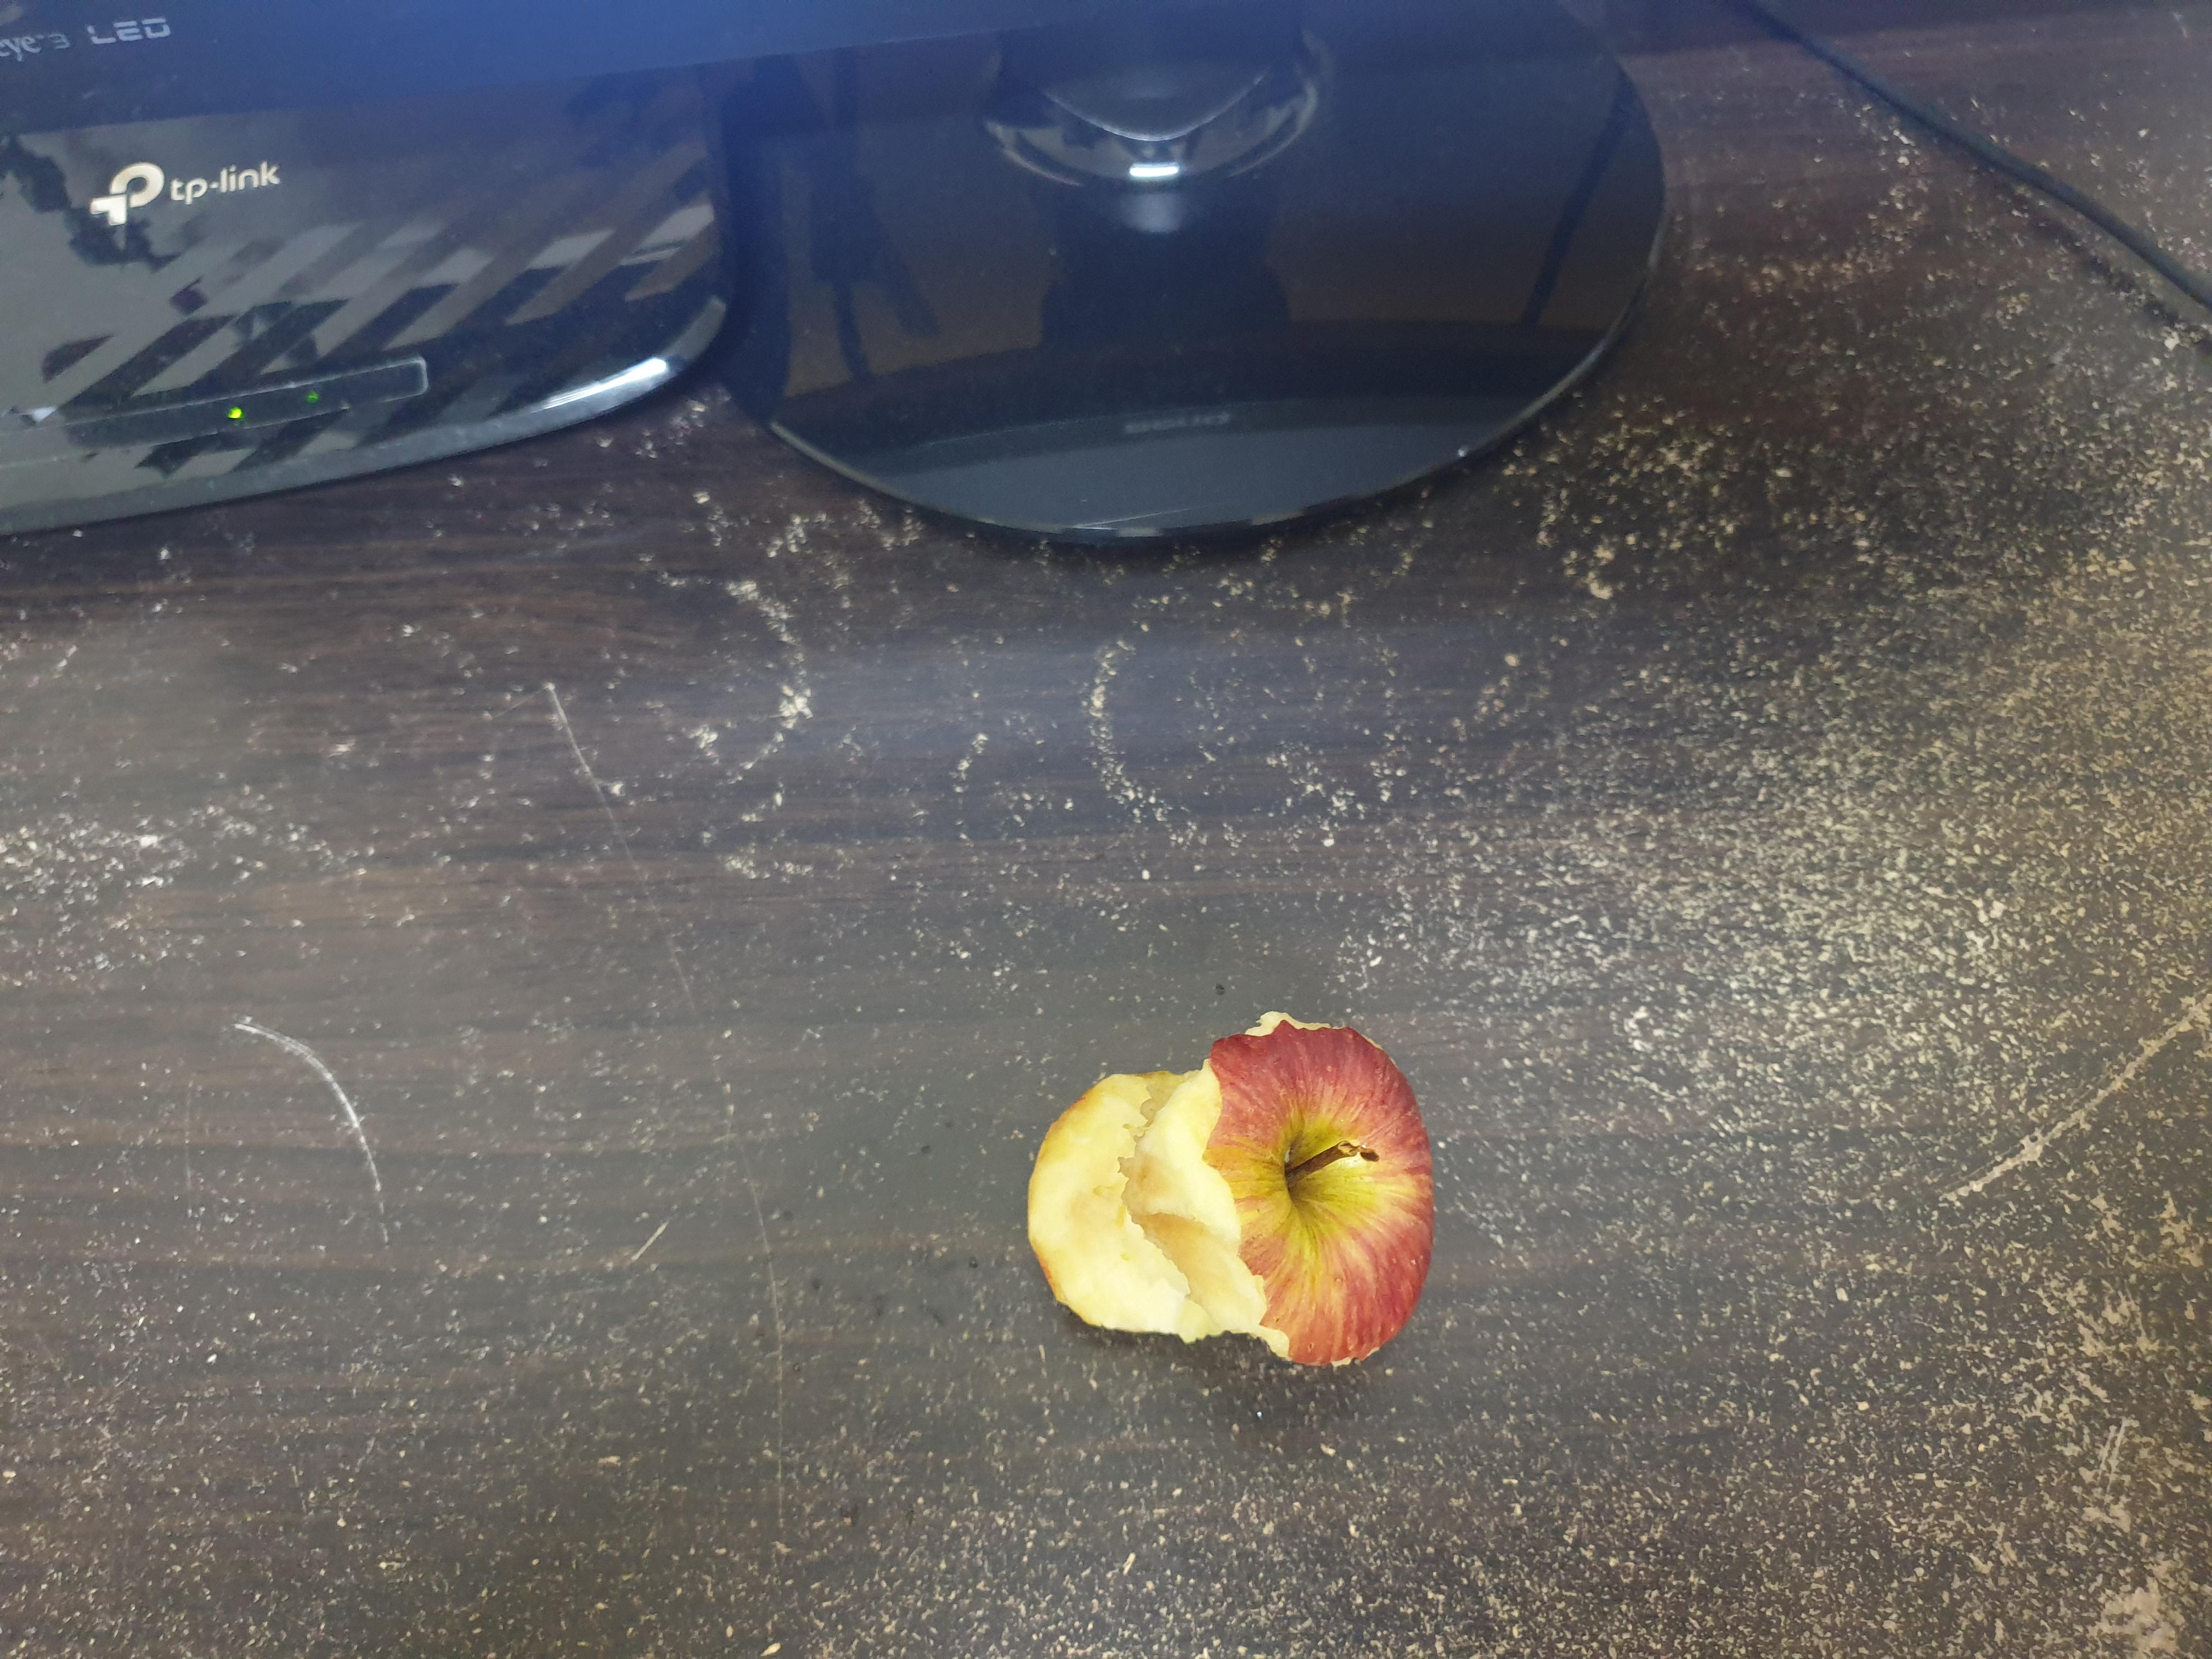Apple: (1007, 974, 1487, 1387)
